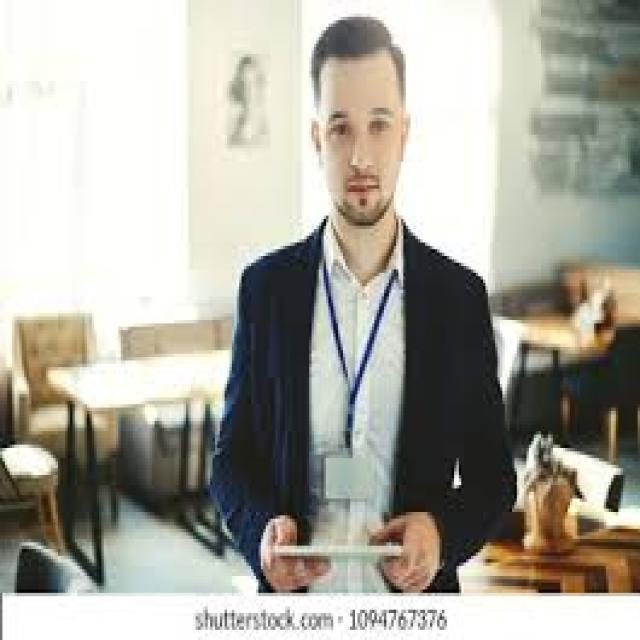id_card: (316, 240, 395, 508)
